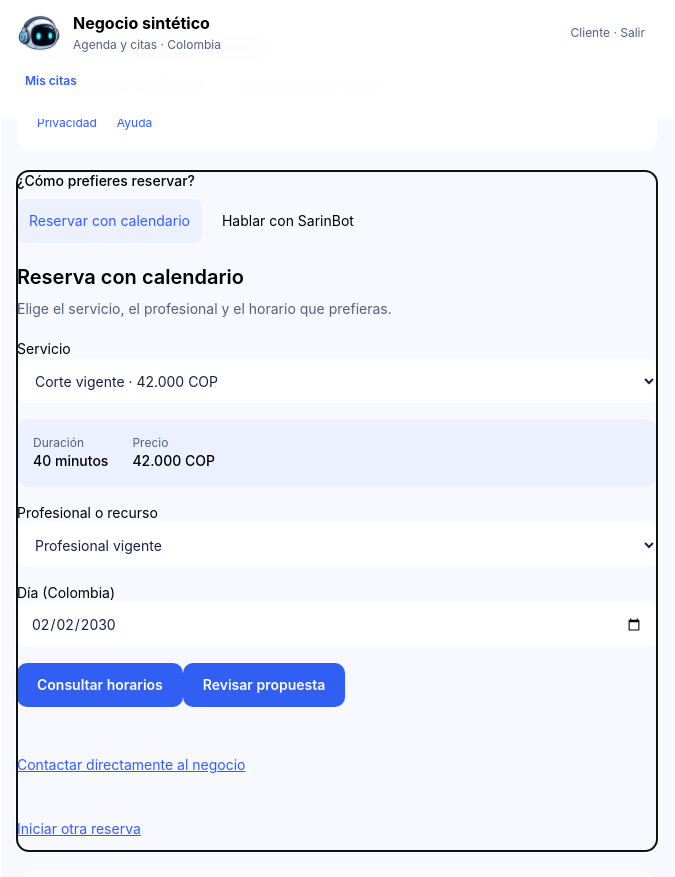
Test: resumes a waitlist with fresh case and one-shot exact hints while leaving the request intact
(page scrolled)
Expected: the dropdown labelled "Servicio" shows "Corte vigente · 42.000 COP", [17,359,657,403]
Expected: the date field labelled "Día (Colombia)" holds "2030-02-02", [17,603,657,647]
Click the button "Iniciar otra reserva": (79, 829) [17,807,141,851]
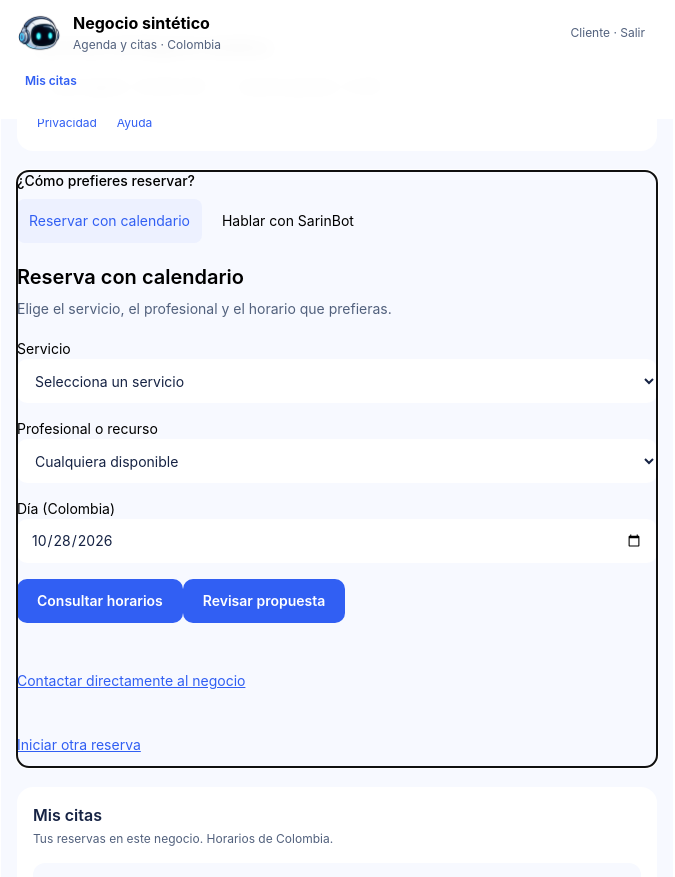
Expected: the dropdown labelled "Servicio" shows "Selecciona un servicio", [17,359,657,403]
Expected: the date field labelled "Día (Colombia)" does not hold "2030-02-02", [17,519,657,563]
